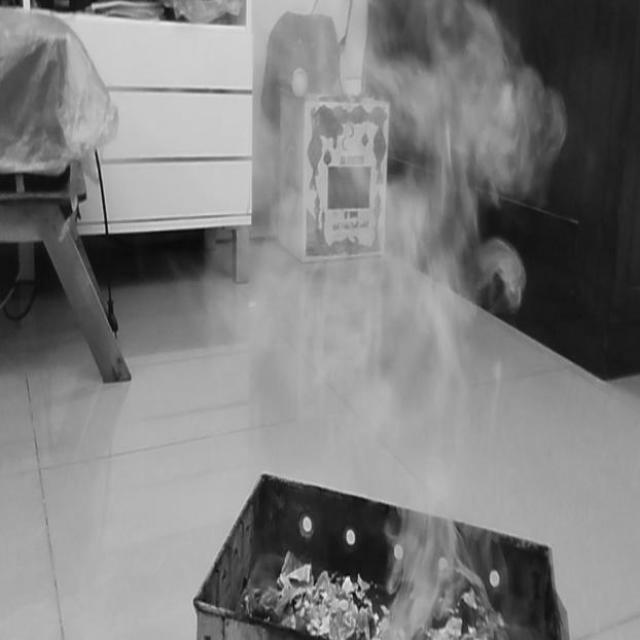fire: (191, 0, 532, 326), (385, 326, 498, 580)
